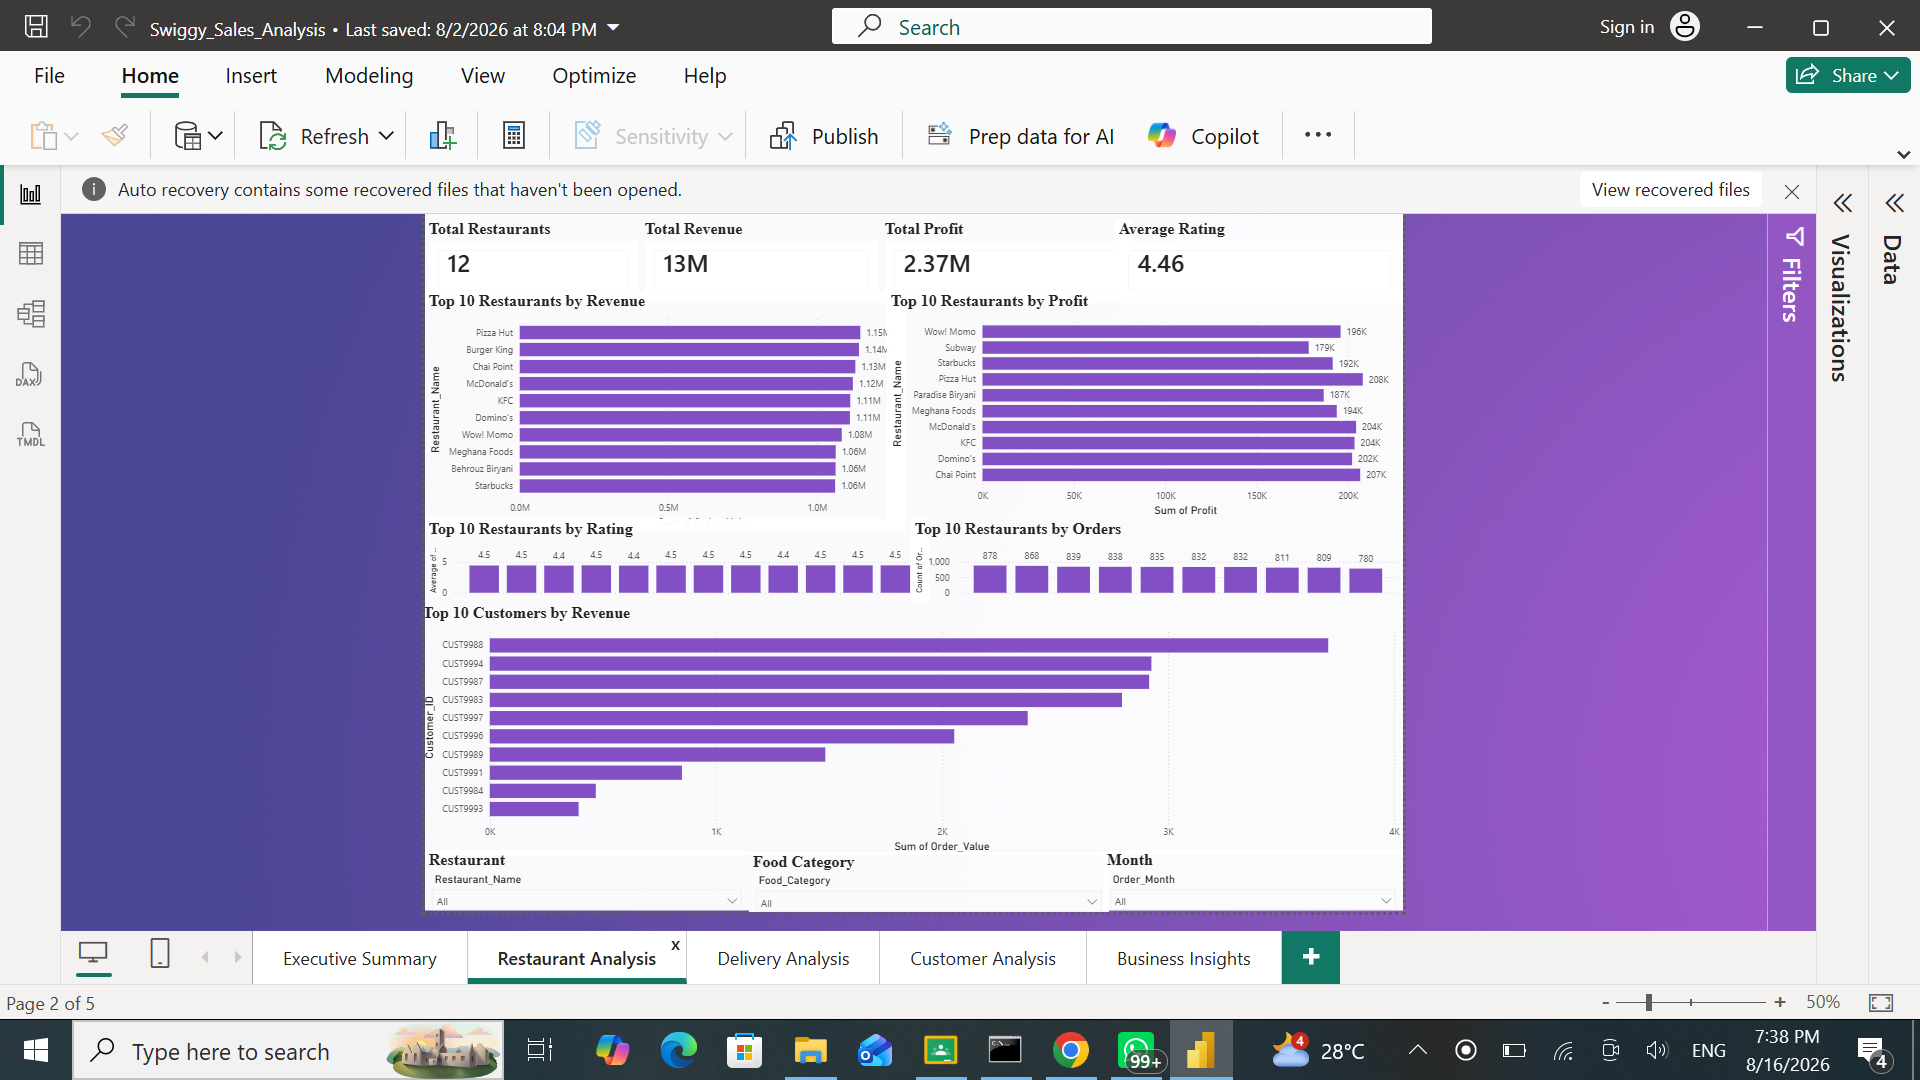

The page's visual inventory and layout, read from the dashboard file:
{"tool":"powerbi","page":{"name":"Restaurant Analysis","canvas":[1304,972],"ordinal":1},"visuals":[{"type":"cardVisual","title":"Total Restaurants","fields":{"Data":["Count(Swiggy_Sales_Analysis_Dataset_10000.Restaurant_Name)"]},"box":[0,48,288,112],"z":0},{"type":"cardVisual","title":"Total Revenue","fields":{"Data":["Sum(Swiggy_Sales_Analysis_Dataset_10000.Order_Value)"]},"box":[288,48,320,112],"z":1000},{"type":"cardVisual","title":"Total Profit","fields":{"Data":["Sum(Swiggy_Sales_Analysis_Dataset_10000.Profit)"]},"box":[608,48,336,112],"z":2000},{"type":"cardVisual","title":"Average Rating","fields":{"Data":["Avg(Swiggy_Sales_Analysis_Dataset_10000.Customer_Rating)"]},"box":[920,48,384,112],"z":3000},{"type":"clusteredBarChart","title":"Top 10 Restaurants by Revenue","fields":{"Category":["Swiggy_Sales_Analysis_Dataset_10000.Restaurant_Name"],"Y":["Sum(Swiggy_Sales_Analysis_Dataset_10000.Order_Value)"]},"box":[0,144,640,320],"z":4000},{"type":"clusteredBarChart","title":"Top 10 Restaurants by Profit","fields":{"Category":["Swiggy_Sales_Analysis_Dataset_10000.Restaurant_Name"],"Y":["Sum(Swiggy_Sales_Analysis_Dataset_10000.Profit)"]},"box":[616,144,688,304],"z":5000},{"type":"clusteredColumnChart","title":"Top 10 Restaurants by Rating","fields":{"Category":["Swiggy_Sales_Analysis_Dataset_10000.Restaurant_Name"],"Y":["Avg(Swiggy_Sales_Analysis_Dataset_10000.Customer_Rating)"]},"box":[0,448,672,112],"z":6000},{"type":"clusteredColumnChart","title":"Top 10 Restaurants by Orders","fields":{"Category":["Swiggy_Sales_Analysis_Dataset_10000.Restaurant_Name"],"Y":["CountNonNull(Swiggy_Sales_Analysis_Dataset_10000.Order_ID)"]},"box":[648,448,656,112],"z":7000},{"type":"clusteredBarChart","title":"Top 10 Customers by Revenue","fields":{"Category":["Swiggy_Sales_Analysis_Dataset_10000.Customer_ID"],"Y":["Sum(Swiggy_Sales_Analysis_Dataset_10000.Order_Value)"]},"box":[-8,560,1312,336],"z":8000},{"type":"slicer","title":" Restaurant","fields":{"Values":["Swiggy_Sales_Analysis_Dataset_10000.Restaurant_Name"]},"box":[0,889,432,80],"z":9000},{"type":"slicer","title":"Food Category","fields":{"Values":["Swiggy_Sales_Analysis_Dataset_10000.Food_Category"]},"box":[432,892,480,80],"z":10000},{"type":"slicer","title":"Month","fields":{"Values":["Swiggy_Sales_Analysis_Dataset_10000.Order_Month"]},"box":[904,889,400,80],"z":11000},{"type":"textbox","box":[-8,0,1312,48],"z":12000}]}

Visuals, with their boxes on the page's 1304x972 design canvas (x1, y1, x2, y2). These are canvas units, not pixel positions in the 1920x1080 screenshot, which may show the page scaled, cropped or inside an application window:
"Total Restaurants" cardVisual: 0/48/288/160
"Total Revenue" cardVisual: 288/48/608/160
"Total Profit" cardVisual: 608/48/944/160
"Average Rating" cardVisual: 920/48/1304/160
"Top 10 Restaurants by Revenue" clusteredBarChart: 0/144/640/464
"Top 10 Restaurants by Profit" clusteredBarChart: 616/144/1304/448
"Top 10 Restaurants by Rating" clusteredColumnChart: 0/448/672/560
"Top 10 Restaurants by Orders" clusteredColumnChart: 648/448/1304/560
"Top 10 Customers by Revenue" clusteredBarChart: -8/560/1304/896
" Restaurant" slicer: 0/889/432/969
"Food Category" slicer: 432/892/912/972
"Month" slicer: 904/889/1304/969
textbox: -8/0/1304/48
